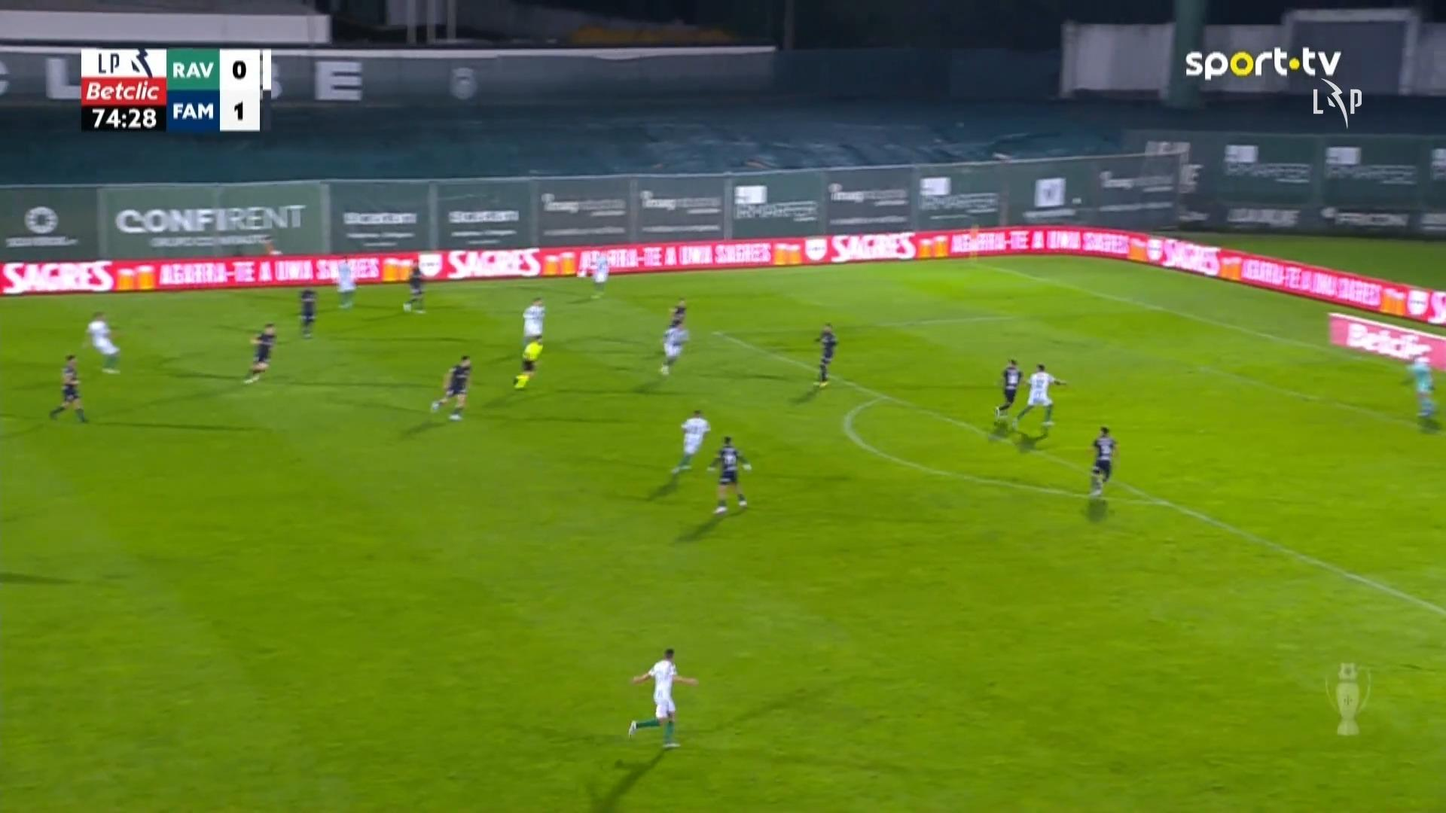goalkeeper: (1401, 350, 1437, 422)
player: (627, 647, 698, 748), (1010, 362, 1066, 431), (706, 435, 751, 513), (429, 354, 472, 420), (48, 353, 88, 422), (670, 408, 710, 474), (84, 310, 121, 373), (243, 322, 276, 384), (1088, 425, 1116, 498), (993, 358, 1022, 424), (658, 319, 689, 376), (813, 322, 837, 387), (333, 255, 357, 309), (402, 262, 426, 313), (521, 297, 545, 344), (297, 285, 317, 338), (589, 252, 609, 299), (668, 297, 687, 330)
referee: (512, 338, 543, 389)
